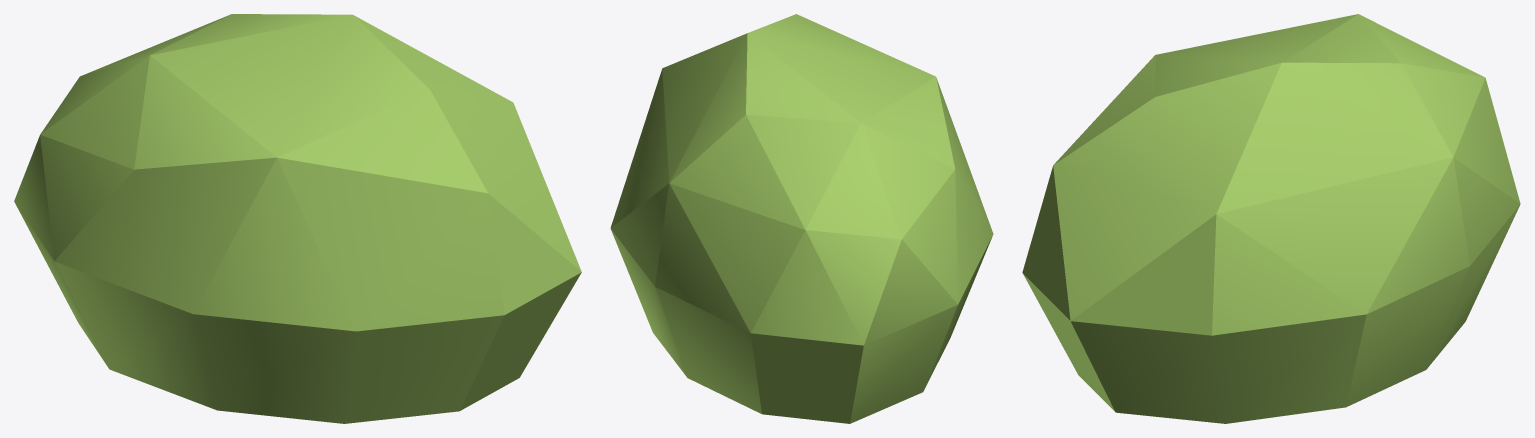
File: Bush_h_m_02.fbx
3 renders of one model, left to right at view 1: azimuth 30°, elevation 25°; view 2: azimuth 150°, elevation 25°; view 3: azimuth 270°, elevation 25°, orthographic. The views are drawn at different scales.
Parts seen in each view (by area): view 1: Bush_h_m_02; view 2: Bush_h_m_02; view 3: Bush_h_m_02.
Part boxes in pixels (<box>): Bush_h_m_02: <box>14,14,581,423</box>; Bush_h_m_02: <box>610,14,993,423</box>; Bush_h_m_02: <box>1022,14,1520,423</box>.
Bounding box in the file's own units: 149 × 110 × 160.
